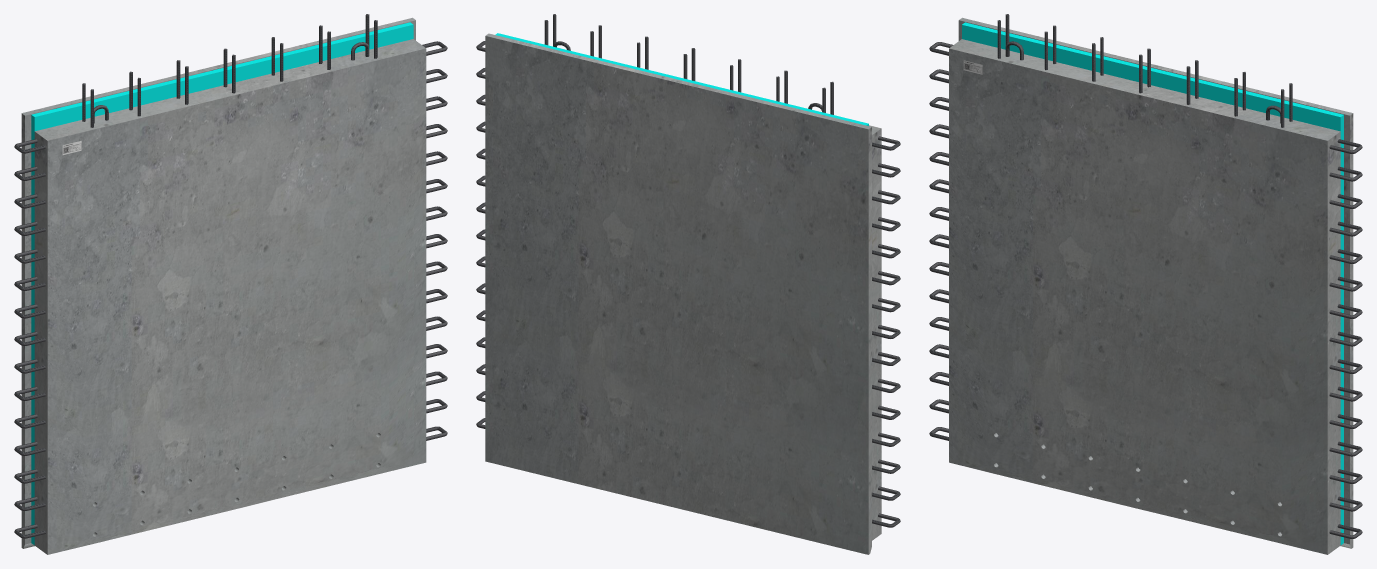
File: 预制剪力墙外墙.FBX
The picture shows the model from 3 angles, left to right: view 1: azimuth 30°, elevation 25°; view 2: azimuth 150°, elevation 25°; view 3: azimuth 330°, elevation 25°; orthographic projection. The views are drawn at different scales.
Visible parts, largest first — view 1: JJ_yuzhijianliqiangwaiqiang; view 2: JJ_yuzhijianliqiangwaiqiang; view 3: JJ_yuzhijianliqiangwaiqiang.
Part boxes in pixels (<box>): JJ_yuzhijianliqiangwaiqiang: <box>14,14,447,554</box>; JJ_yuzhijianliqiangwaiqiang: <box>476,14,900,554</box>; JJ_yuzhijianliqiangwaiqiang: <box>929,14,1362,554</box>.
Size of the model in its own units: 301 by 308 by 24.23.
